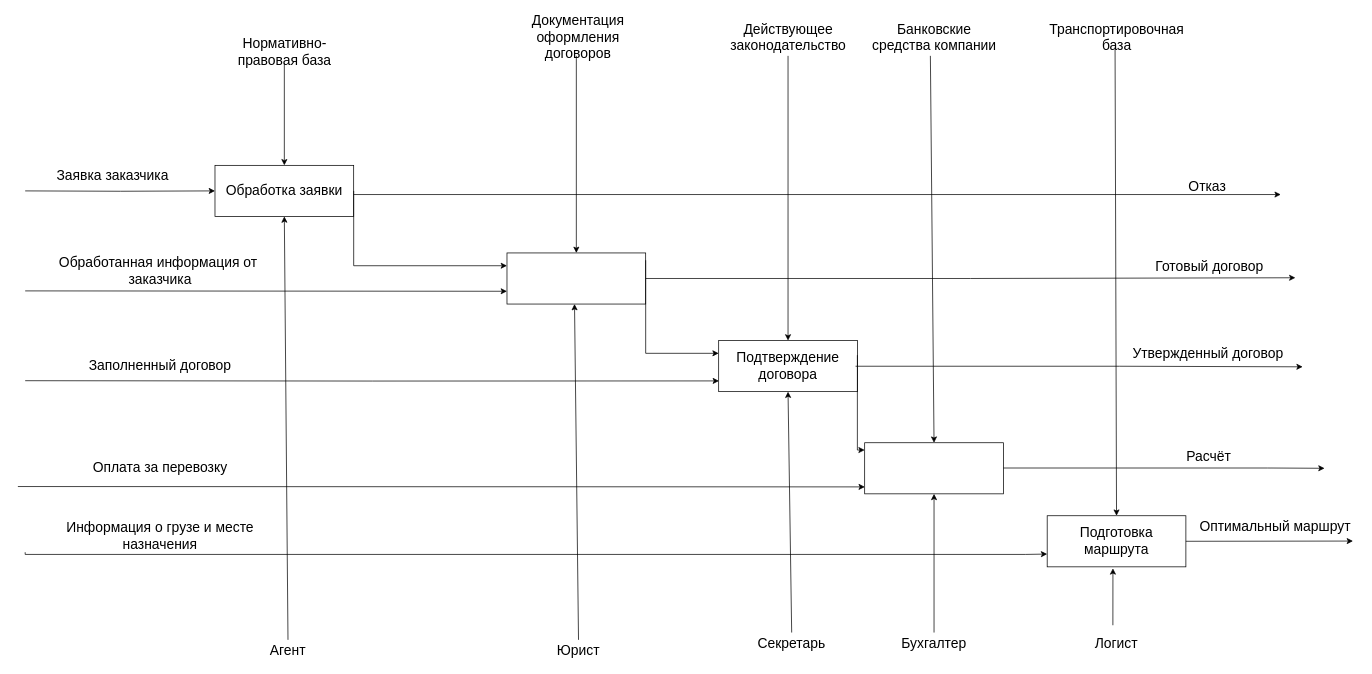
Some shapes in this 1372 by 674 pixel diagram are drawn without their labels. Each missing label, with the centre of its shape:
Оплата услуги: point (933, 468)
Подготовка договора: point (576, 278)
